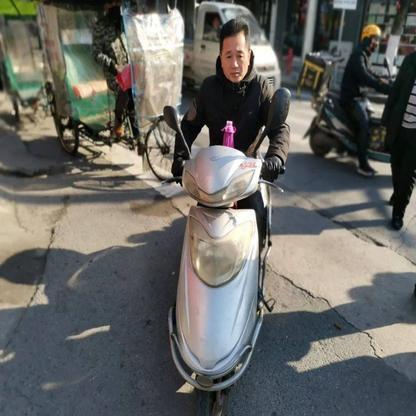target: (159, 16, 291, 396)
